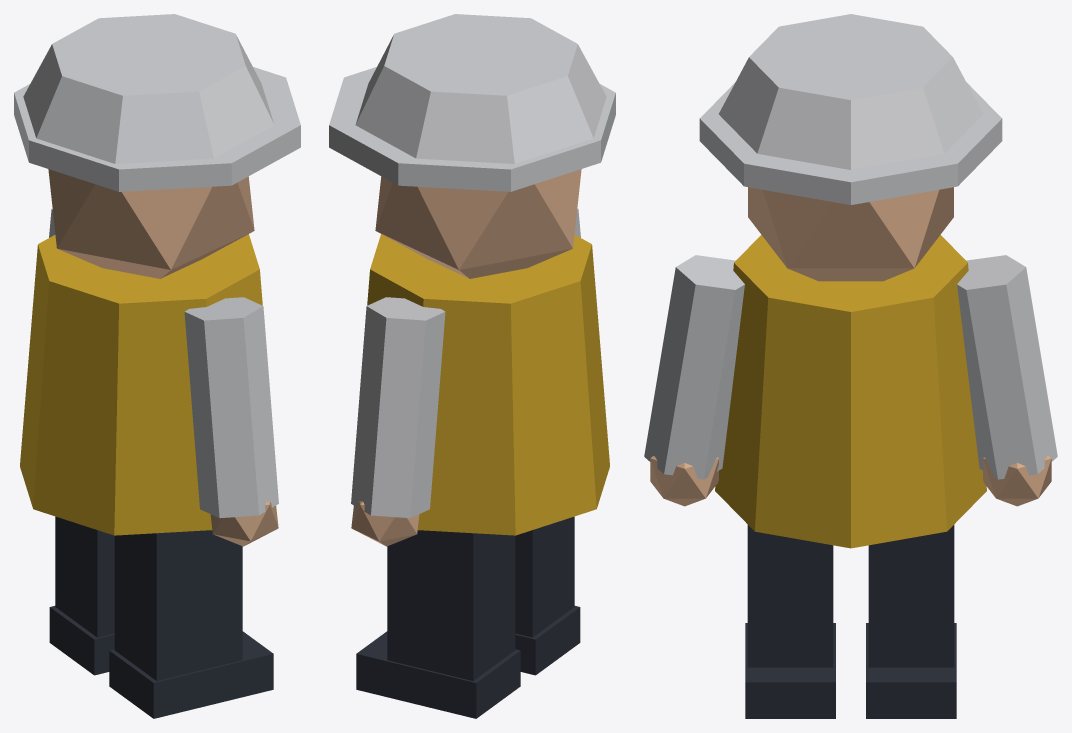
The model's file is inspector.glb.
3 views of the same model, side by side, from view 1: azimuth 30°, elevation 25°; view 2: azimuth 150°, elevation 25°; view 3: azimuth 270°, elevation 25° (orthographic).
Visible parts, largest first — view 1: inspector; view 2: inspector; view 3: inspector.
Boxes of the visible parts, x1,y1,x2,y2 form: inspector: (14,14,300,718); inspector: (329,14,615,718); inspector: (644,14,1057,718).
Size of the model in its own units: 0.6 by 1.37 by 0.821.
